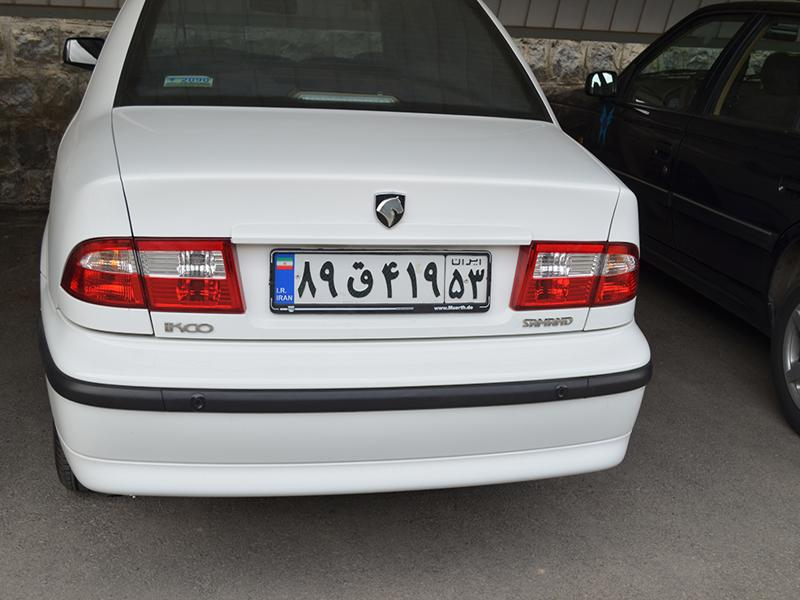Plate: (270, 248, 491, 309)
